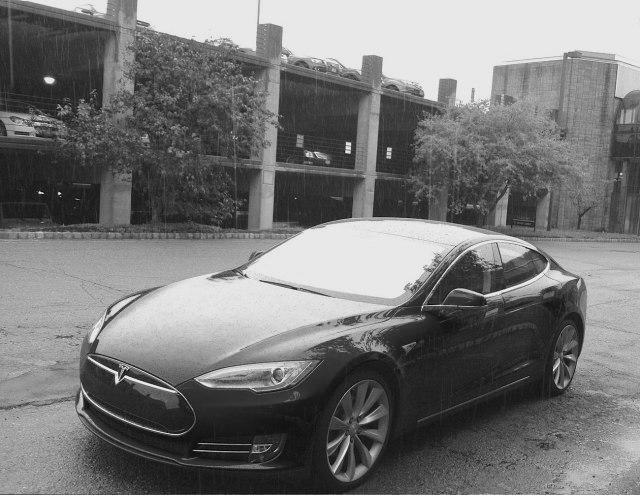car: (75, 214, 594, 494)
